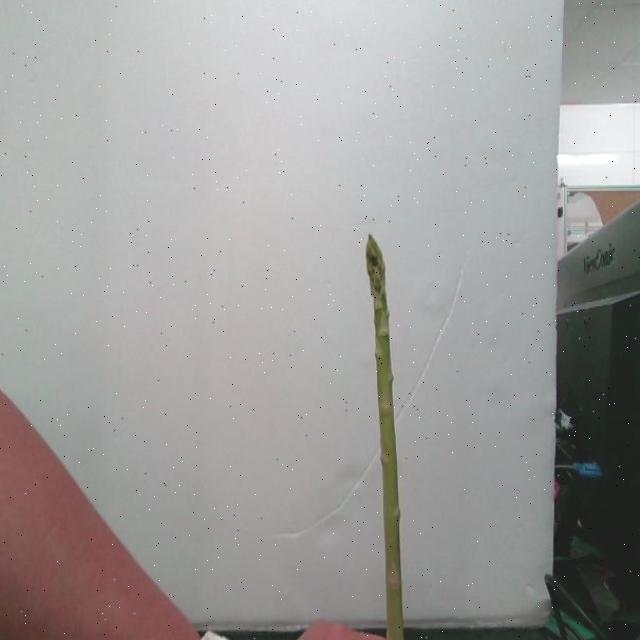aspargus: (367, 237, 407, 640)
